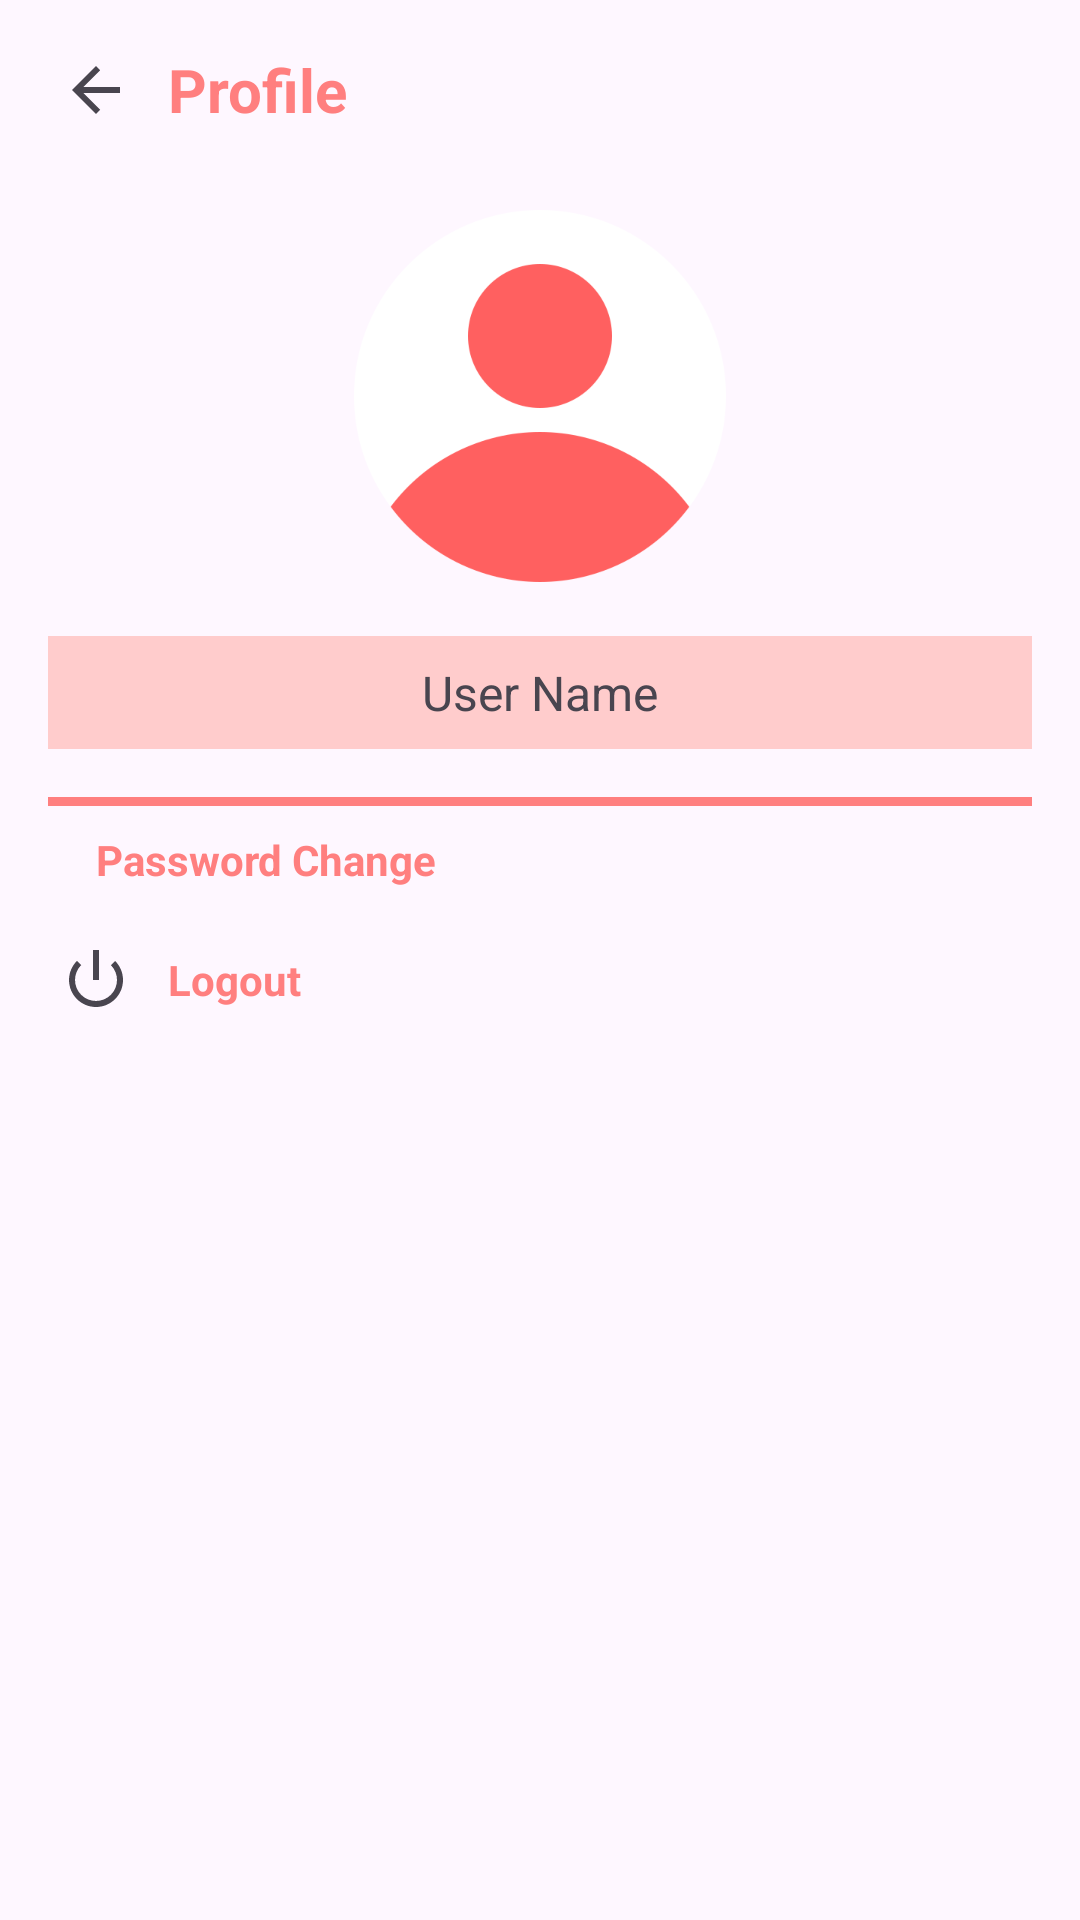

Screen size 1080×1920. Icon name, then its box in pixels as (x1, y1, x2, y2):
lock power off: (69, 950, 123, 1007)
